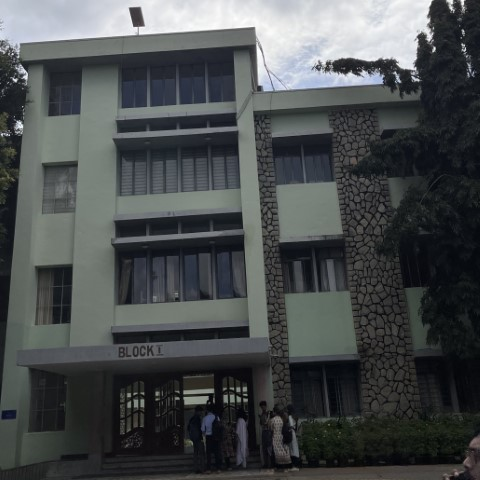Block 1: (15, 26, 425, 480)
